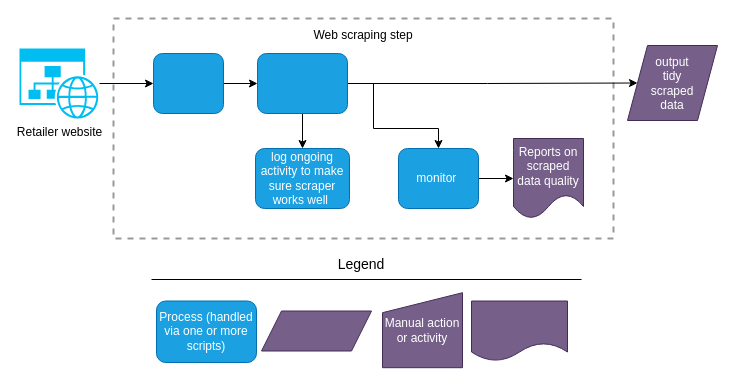
This 735x385 diagram has some shape labels left out. Each missing label, with the centre of its shape:
"check robots.txt" belongs at point 188,83.
"Data table" belongs at point 316,330.
"Report to review" belongs at point 519,330.
"scrape site" belongs at point 302,83.
